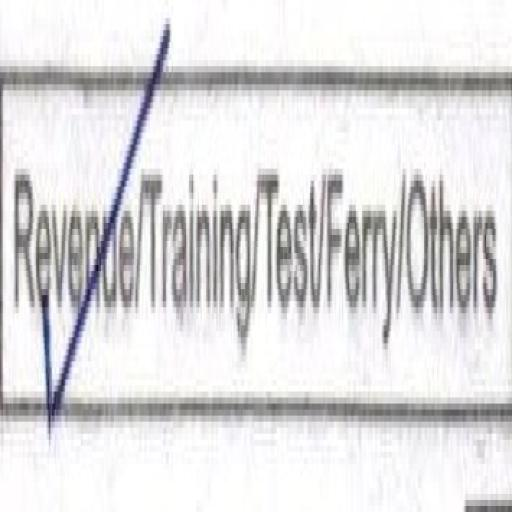check: (6, 0, 138, 434)
